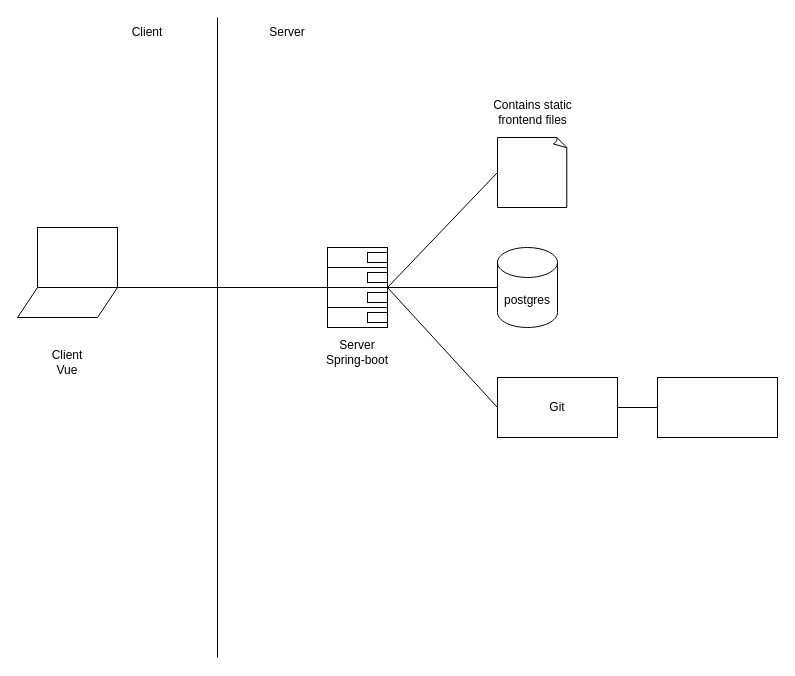
Some shapes in this 795 by 676 pixel diagram are drawn without their labels. The shapes that lost their labels are listed below. From the top down, each one's centre as x and y in pixels, then its label:
(532,172): Static files
(717,407): Remote Git Provider
